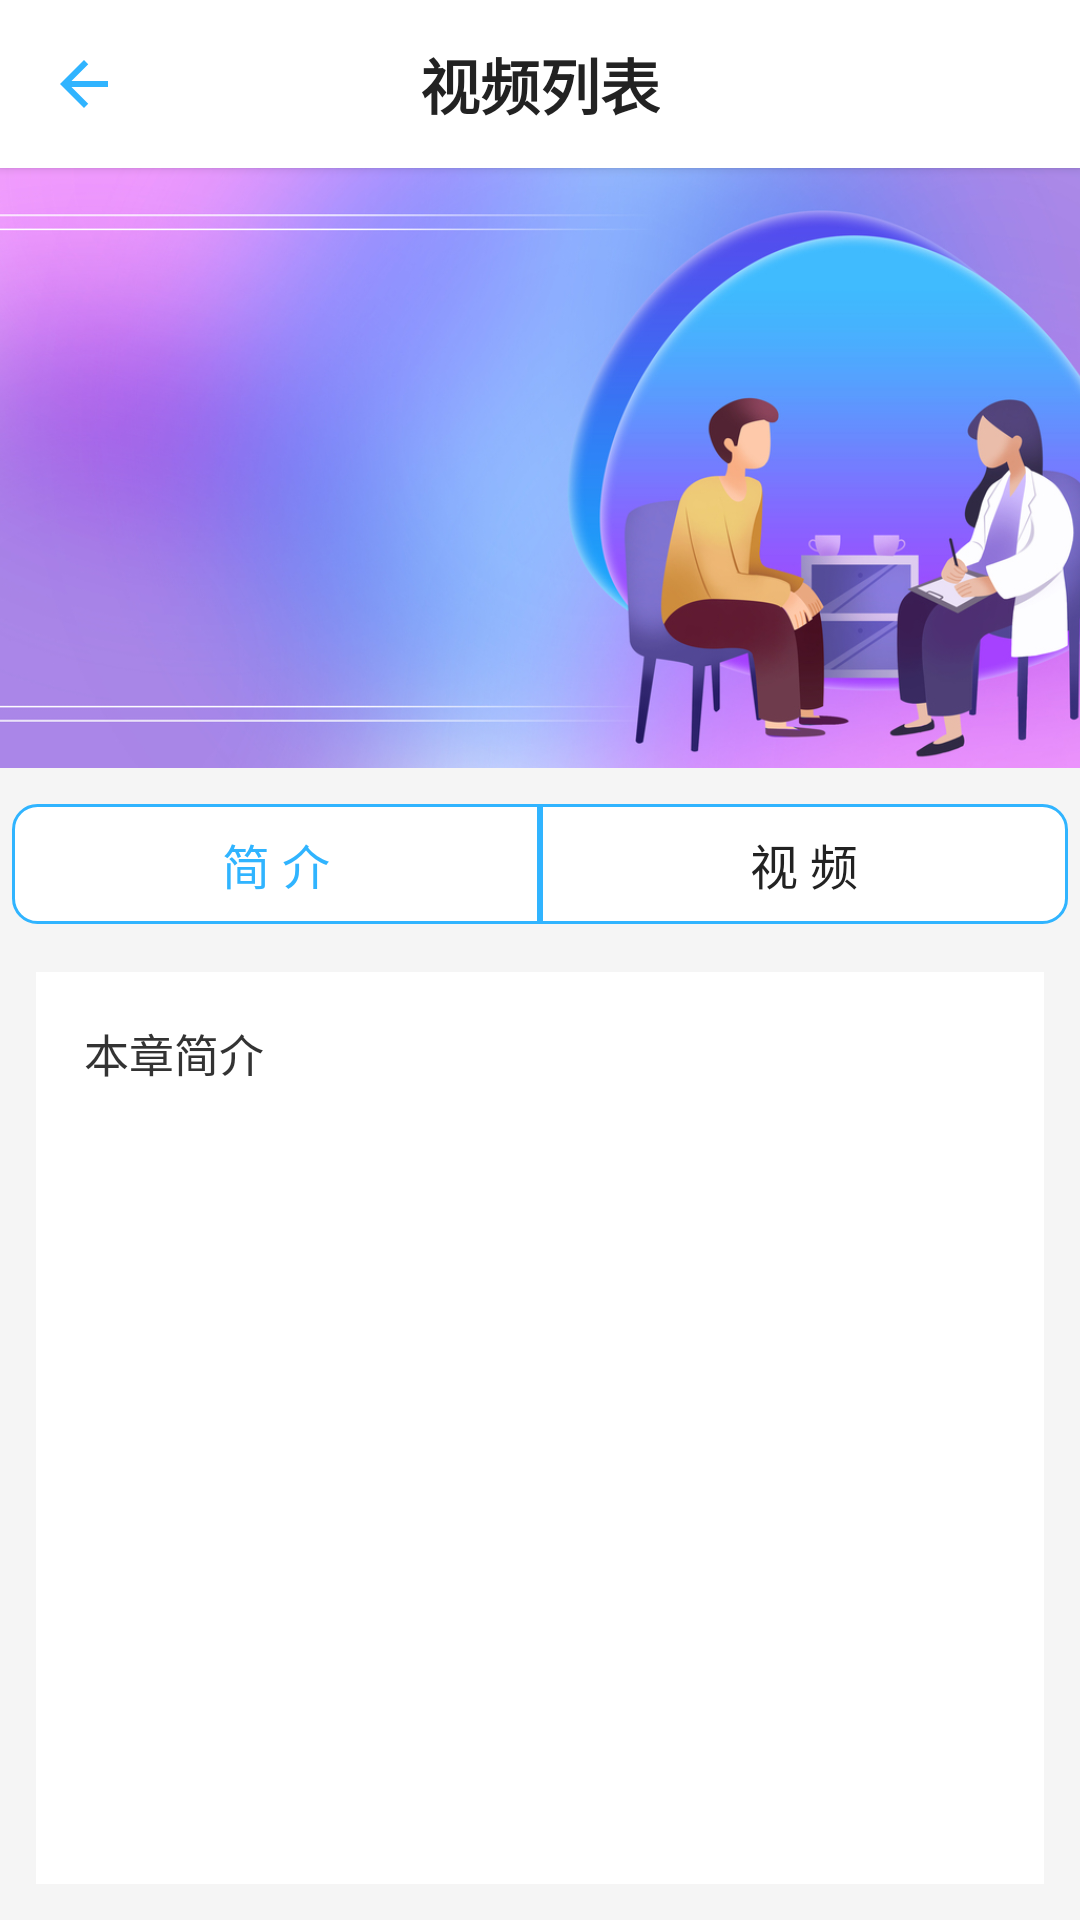

Icon click points for this 1080 × 1920 phone screenshot, format (x=x, y=y):
返回: (x=84, y=84)
